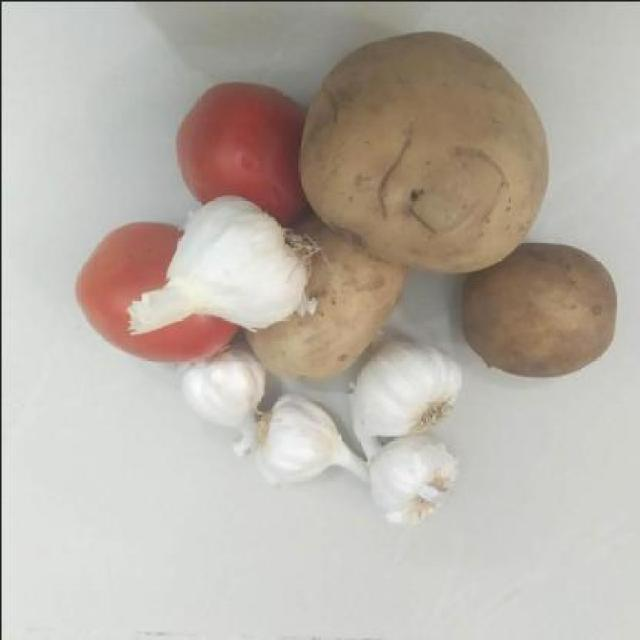Garlic: (123, 198, 317, 334), (350, 344, 456, 454), (242, 391, 364, 480), (363, 430, 457, 524), (178, 344, 268, 430)
Potato: (450, 238, 624, 372)
Sponge Gourd: (300, 28, 552, 277)
Tomato: (166, 83, 309, 212)
